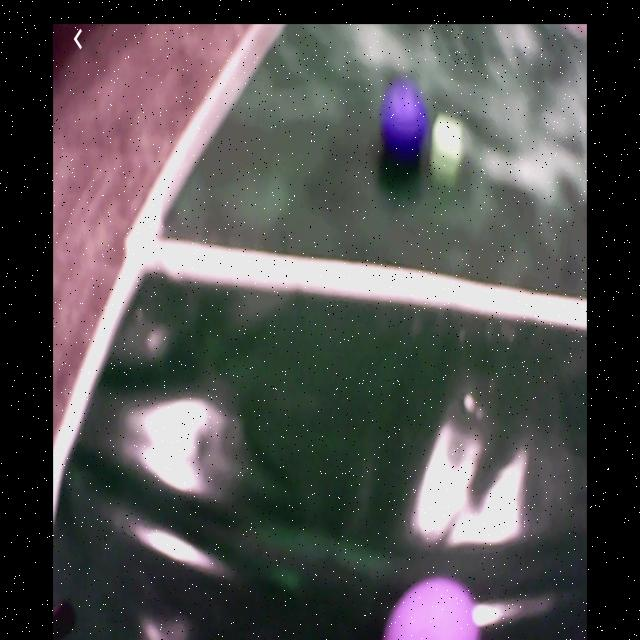ball: (382, 577, 484, 640), (382, 82, 428, 159)
